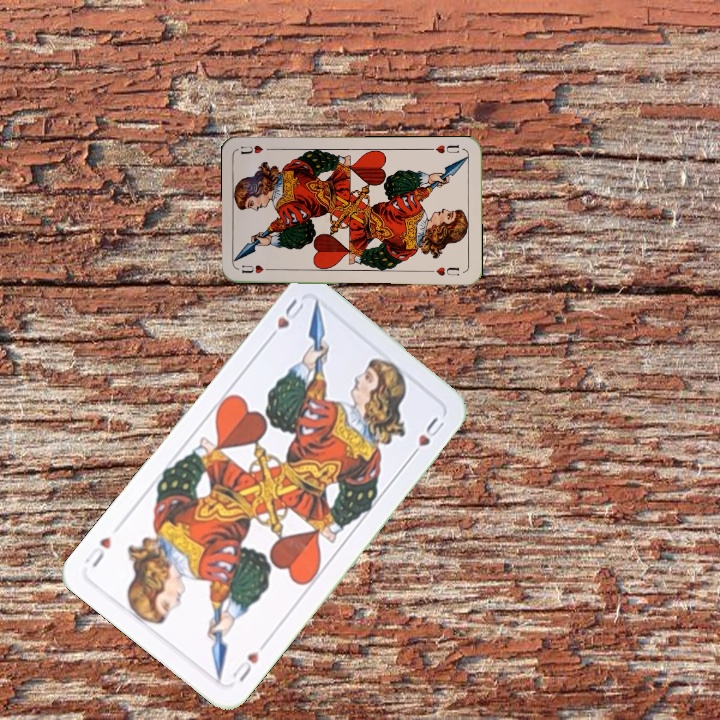HU: (263, 294, 307, 344), (228, 638, 269, 685), (238, 261, 277, 276), (425, 141, 462, 156)
